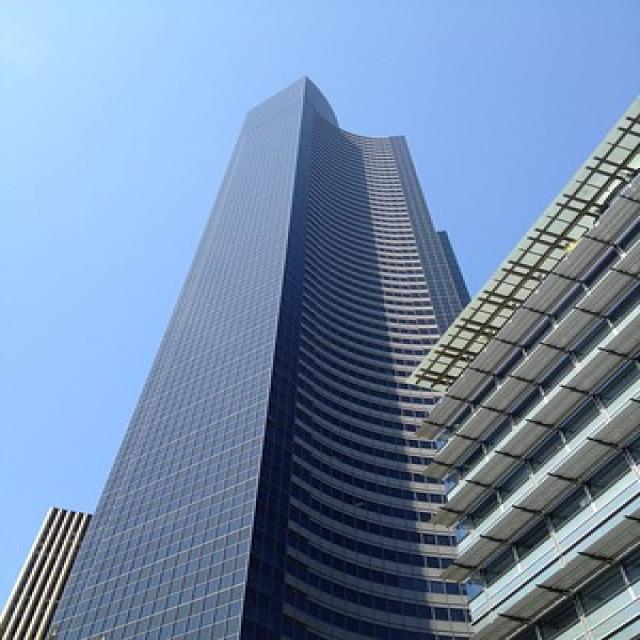building: (47, 72, 493, 640)
